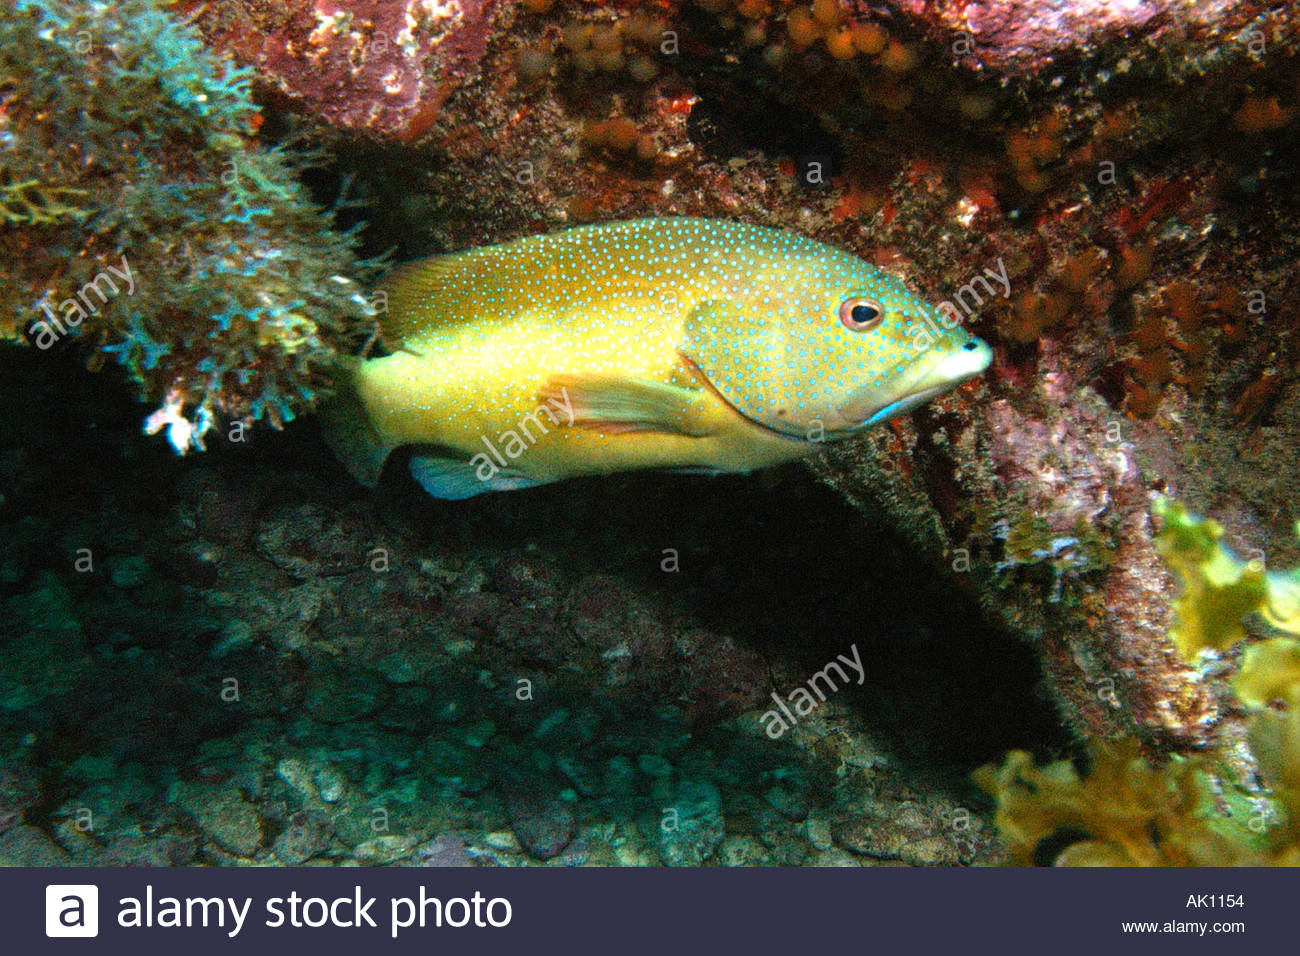Cephalopholis_fulvaw: (280, 190, 1039, 553)
